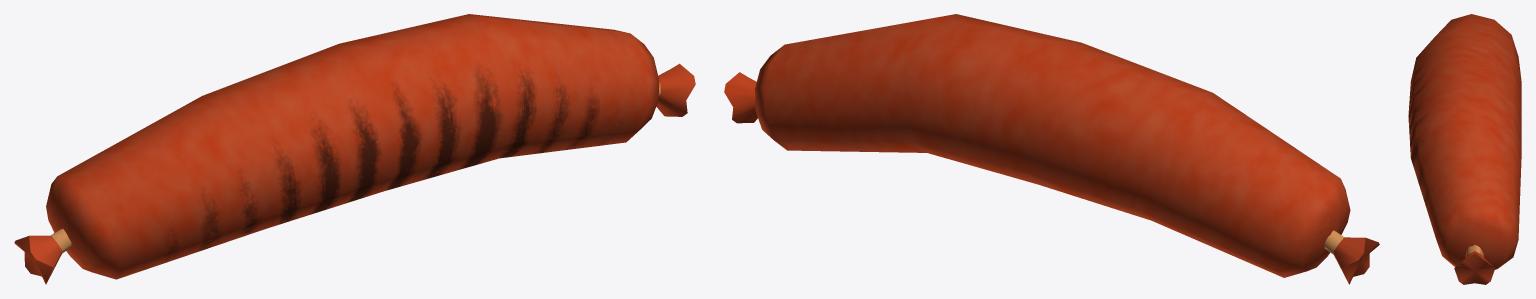
Rendered from Balloon_Sausage_Art.fbx.
The picture shows the model from 3 angles, left to right: view 1: azimuth 30°, elevation 25°; view 2: azimuth 150°, elevation 25°; view 3: azimuth 270°, elevation 25°; orthographic projection. The views are drawn at different scales.
Visible parts, largest first — view 1: Oktoberfest_SausageBalloon; view 2: Oktoberfest_SausageBalloon; view 3: Oktoberfest_SausageBalloon.
Part boxes in pixels (box(x1,y1,x2,y2)): Oktoberfest_SausageBalloon: box(14, 14, 695, 284); Oktoberfest_SausageBalloon: box(724, 14, 1379, 284); Oktoberfest_SausageBalloon: box(1408, 14, 1521, 284).
Bounding box in the file's own units: 1895 × 464 × 387.
